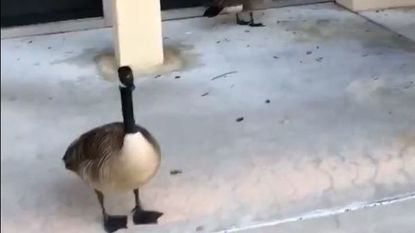goose: (58, 64, 170, 230), (200, 1, 267, 29)
